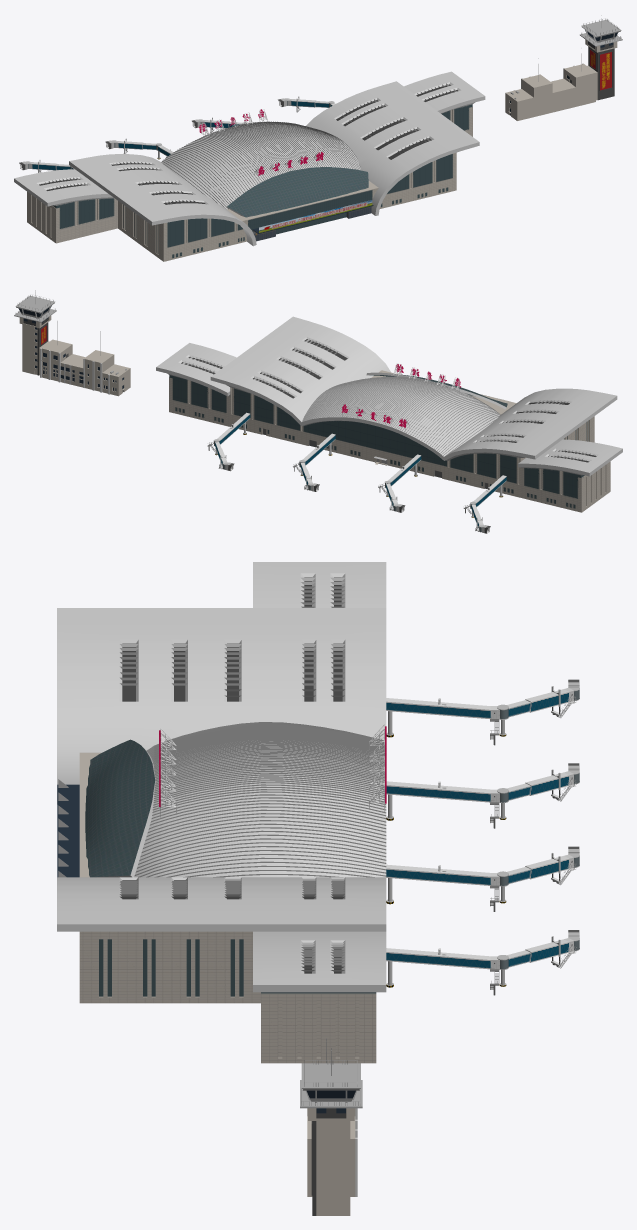
File: 乌兰浩特义勒力特.glb
3 renders of one model, top to bottom at view 1: azimuth 30°, elevation 25°; view 2: azimuth 150°, elevation 25°; view 3: azimuth 270°, elevation 25°, orthographic. The views are drawn at different scales.
Visible parts, largest first — view 1: 立方体.001, 立方体.002, 立方体, 立方体.058, 立方体.010, 立方体.012, 立方体.006, 立方体.057, 立方体.060, 立方体.049, 立方体.056, 立方体.052; view 2: 立方体.001, 立方体, 立方体.002, 立方体.006, 立方体.058, 立方体.012, 立方体.057, 立方体.060, 立方体.056, 立方体.010; view 3: 立方体.001, 立方体.058, 立方体.002, 立方体, 立方体.012, 立方体.006, 立方体.010, 立方体.060, 立方体.056, 立方体.051, 立方体.021, 立方体.033 (+8 smaller).
Part boxes in pixels (x1=…): 立方体.001: x1=69, y1=81, x2=479, y2=246; 立方体.002: x1=161, y1=123, x2=360, y2=209; 立方体: x1=118, y1=152, x2=456, y2=261; 立方体.058: x1=161, y1=121, x2=360, y2=209; 立方体.010: x1=226, y1=167, x2=368, y2=217; 立方体.012: x1=14, y1=71, x2=485, y2=206; 立方体.006: x1=27, y1=102, x2=474, y2=243; 立方体.057: x1=505, y1=63, x2=595, y2=120; 立方体.060: x1=580, y1=19, x2=622, y2=100; 立方体.049: x1=259, y1=200, x2=372, y2=232; 立方体.056: x1=113, y1=99, x2=430, y2=204; 立方体.052: x1=253, y1=206, x2=371, y2=241; 立方体.001: x1=210, y1=316, x2=617, y2=460; 立方体: x1=226, y1=370, x2=594, y2=497; 立方体.002: x1=300, y1=379, x2=499, y2=460; 立方体.006: x1=167, y1=373, x2=610, y2=512; 立方体.058: x1=303, y1=376, x2=500, y2=455; 立方体.012: x1=156, y1=343, x2=622, y2=476; 立方体.057: x1=40, y1=339, x2=130, y2=396; 立方体.060: x1=14, y1=295, x2=56, y2=375; 立方体.056: x1=254, y1=338, x2=567, y2=442; 立方体.010: x1=366, y1=372, x2=507, y2=409; 立方体.001: x1=57, y1=608, x2=386, y2=931; 立方体.058: x1=134, y1=722, x2=386, y2=877; 立方体.002: x1=134, y1=740, x2=386, y2=877; 立方体: x1=79, y1=752, x2=260, y2=1003; 立方体.012: x1=253, y1=562, x2=386, y2=992; 立方体.006: x1=261, y1=992, x2=376, y2=1063; 立方体.010: x1=85, y1=739, x2=156, y2=877; 立方体.060: x1=300, y1=1063, x2=362, y2=1215; 立方体.056: x1=120, y1=644, x2=344, y2=898; 立方体.051: x1=57, y1=784, x2=79, y2=877; 立方体.021: x1=386, y1=948, x2=499, y2=969; 立方体.033: x1=386, y1=781, x2=499, y2=802.
Bounding box in the file's own units: 313 × 41.13 × 122.
Materials: 29 (11 with a texture image).
